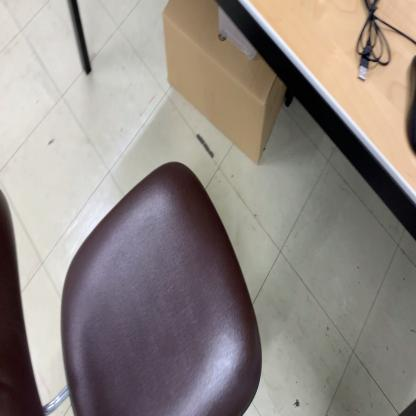chair: (0, 158, 265, 416)
